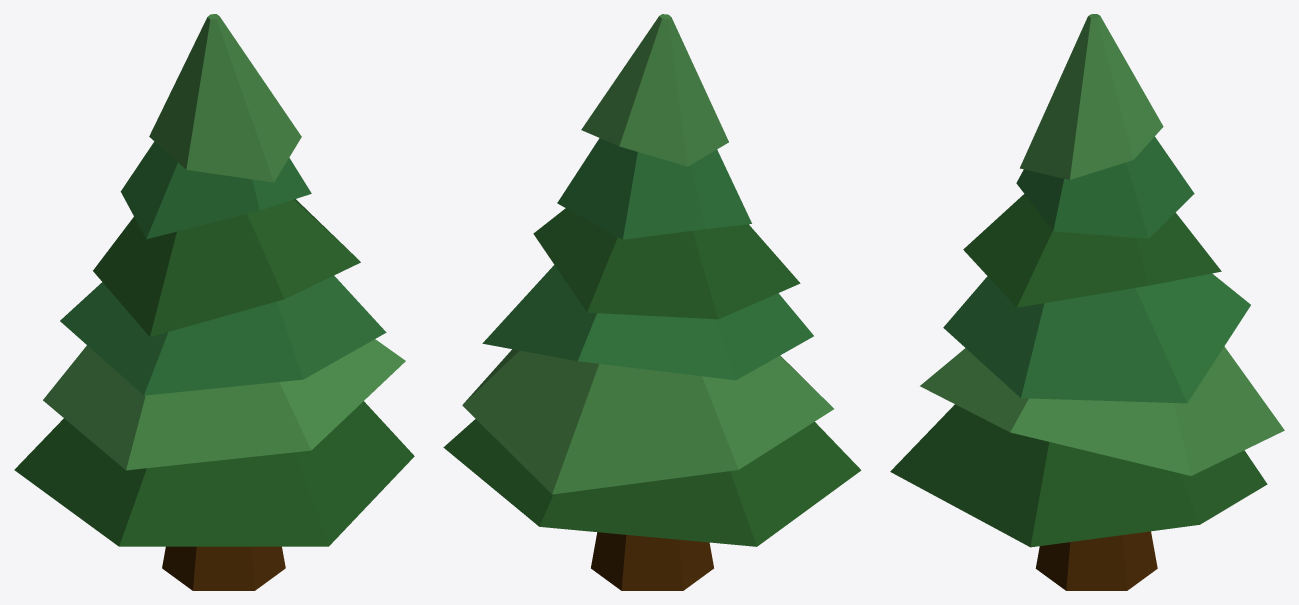
File: Tree2_Green_B.fbx
3 renders of one model, left to right at view 1: azimuth 30°, elevation 25°; view 2: azimuth 150°, elevation 25°; view 3: azimuth 270°, elevation 25°, orthographic.
Visible parts, largest first — view 1: Tree_2_Green; view 2: Tree_2_Green; view 3: Tree_2_Green.
Part boxes in pixels (bbox=[...]): Tree_2_Green: bbox=[14, 14, 414, 590]; Tree_2_Green: bbox=[443, 14, 861, 590]; Tree_2_Green: bbox=[890, 14, 1284, 590].
Size of the model in its own units: 587 by 990 by 647.
